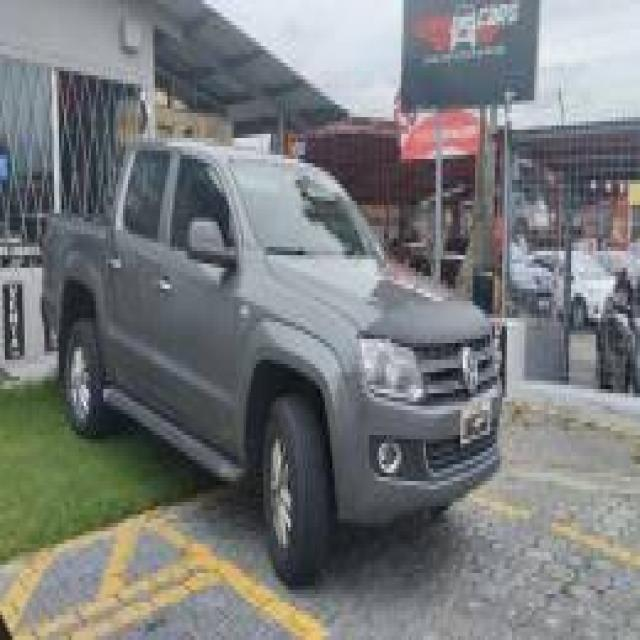CMT: (10, 132, 508, 556)
